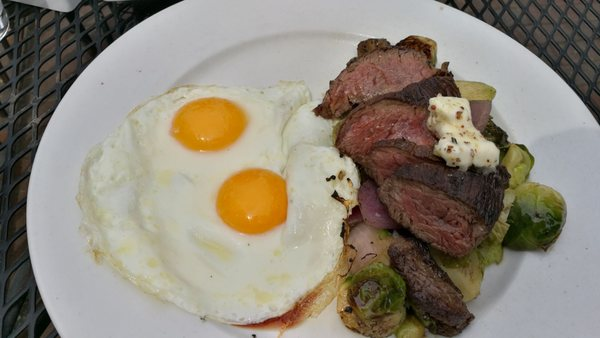soup: (71, 77, 360, 329)
